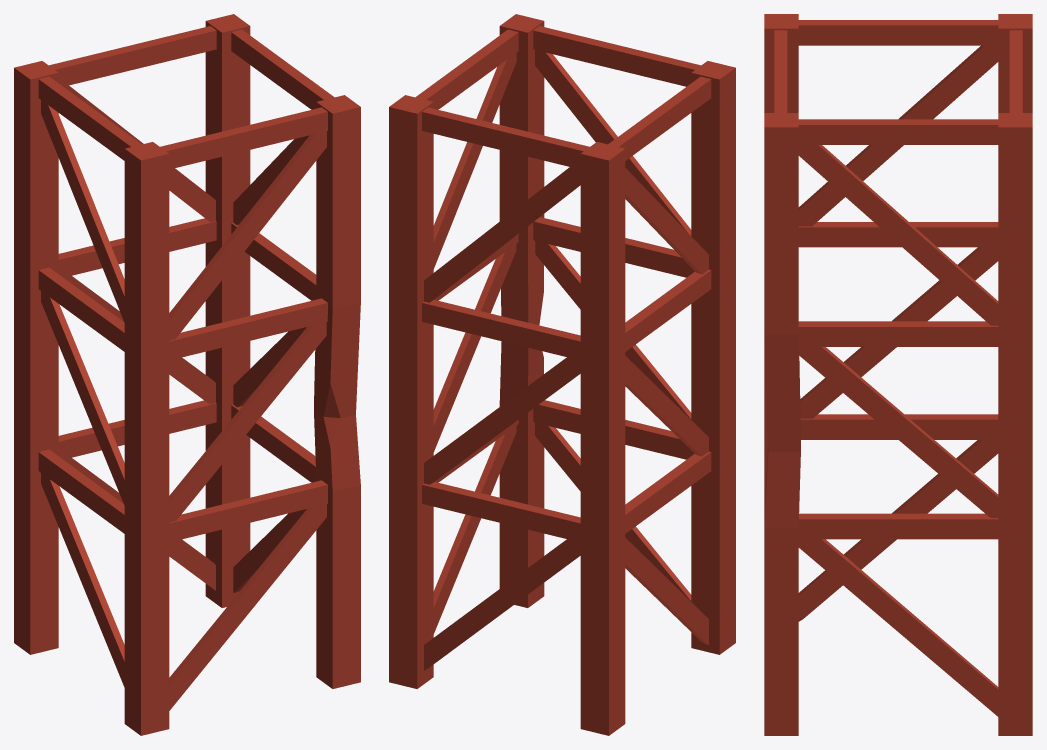
File: SM_Prop_Elevator_Frame_01.glb
3 renders of one model, left to right at view 1: azimuth 30°, elevation 25°; view 2: azimuth 150°, elevation 25°; view 3: azimuth 270°, elevation 25°, orthographic. The views are drawn at different scales.
Parts seen in each view (by area): view 1: SM_Prop_Elevator_Frame_01; view 2: SM_Prop_Elevator_Frame_01; view 3: SM_Prop_Elevator_Frame_01.
Part boxes in pixels (x1,y1,x2,y2): SM_Prop_Elevator_Frame_01: (14, 14, 360, 735); SM_Prop_Elevator_Frame_01: (389, 14, 735, 735); SM_Prop_Elevator_Frame_01: (764, 14, 1032, 735).
Size of the model in its own units: 2 by 5 by 2.
1 material, 1 textured.
